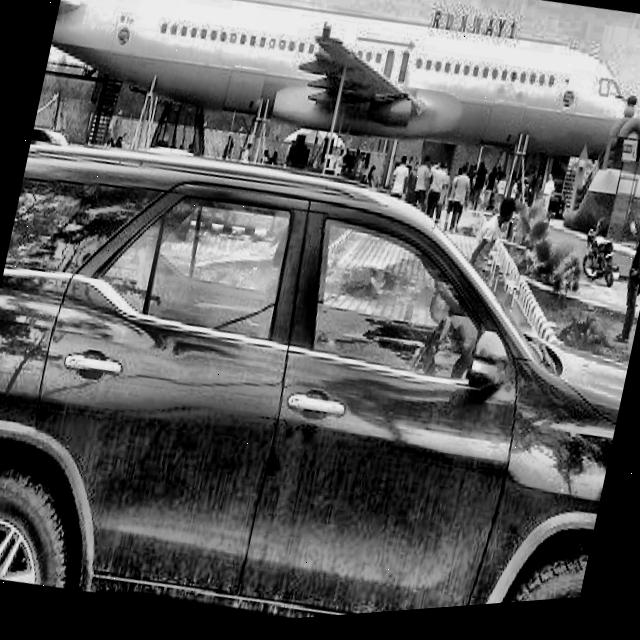light_vehicle: (0, 96, 640, 640)
